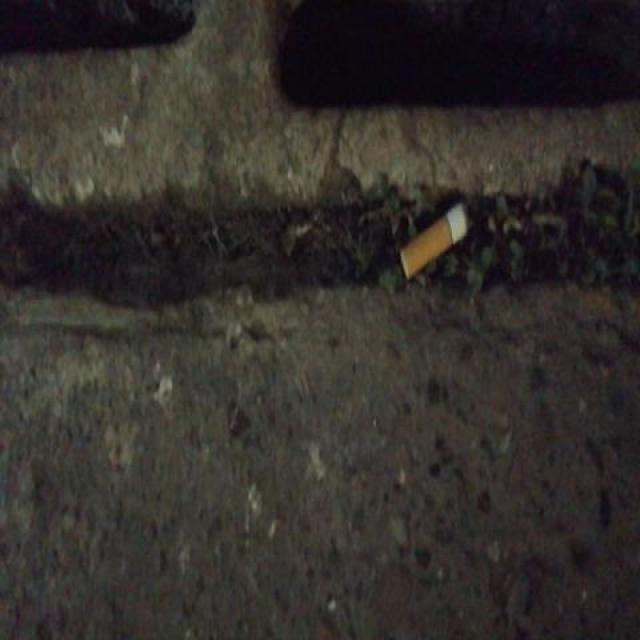non-organic waste: (395, 198, 473, 286)
